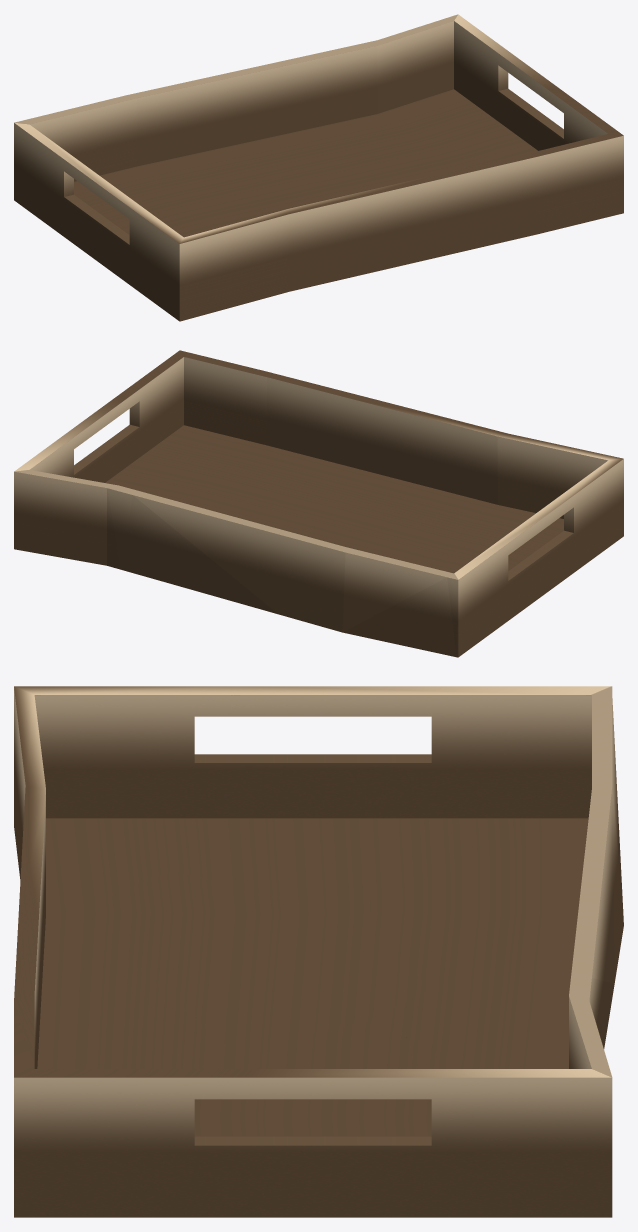
File: Brake_Wood_box.FBX
The picture shows the model from 3 angles, top to bottom: view 1: azimuth 30°, elevation 25°; view 2: azimuth 150°, elevation 25°; view 3: azimuth 270°, elevation 25°; orthographic projection. The views are drawn at different scales.
Visible parts, largest first — view 1: Wood box_Part_3, Wood box_Part_9, Wood box_Part_2, Wood box_Part_1, Wood box_Part_7, Wood box_Part_5, Wood box_Part_4, Wood box_Part_6, Wood box_Part_8, Wood box_Part_10; view 2: Wood box_Part_1, Wood box_Part_5, Wood box_Part_9, Wood box_Part_3, Wood box_Part_7, Wood box_Part_2, Wood box_Part_4, Wood box_Part_6, Wood box_Part_8, Wood box_Part_10; view 3: Wood box_Part_4, Wood box_Part_3, Wood box_Part_7, Wood box_Part_1, Wood box_Part_9, Wood box_Part_5, Wood box_Part_8, Wood box_Part_2, Wood box_Part_6, Wood box_Part_10.
Boxes of the visible parts, box(x1,y1,x2,y2) form: Wood box_Part_3: box(381, 14, 573, 161); Wood box_Part_9: box(26, 80, 264, 211); Wood box_Part_2: box(197, 46, 357, 181); Wood box_Part_1: box(427, 99, 623, 247); Wood box_Part_7: box(117, 197, 303, 321); Wood box_Part_5: box(297, 177, 479, 289); Wood box_Part_4: box(14, 120, 208, 277); Wood box_Part_6: box(323, 39, 490, 192); Wood box_Part_8: box(237, 178, 359, 216); Wood box_Part_10: box(207, 199, 259, 230); Wood box_Part_1: box(130, 350, 368, 492); Wood box_Part_5: box(271, 398, 494, 508); Wood box_Part_9: box(278, 530, 456, 656); Wood box_Part_3: box(14, 386, 175, 563); Wood box_Part_7: box(488, 430, 623, 579); Wood box_Part_2: box(121, 493, 281, 614); Wood box_Part_4: box(416, 501, 564, 657); Wood box_Part_6: box(95, 472, 290, 569); Wood box_Part_8: box(286, 504, 439, 553); Wood box_Part_10: box(375, 507, 506, 563); Wood box_Part_4: box(173, 686, 612, 919); Wood box_Part_3: box(161, 1003, 612, 1217); Wood box_Part_7: box(14, 686, 240, 915); Wood box_Part_1: box(14, 910, 214, 1217); Wood box_Part_9: box(362, 696, 623, 986); Wood box_Part_5: box(19, 798, 230, 1068); Wood box_Part_8: box(114, 947, 433, 1049); Wood box_Part_2: box(367, 846, 614, 1068); Wood box_Part_6: box(208, 970, 591, 1136); Wood box_Part_10: box(62, 870, 381, 949).
Bounding box in the file's own units: 19.16 × 3.2 × 12.63.
1 material, 1 textured.
